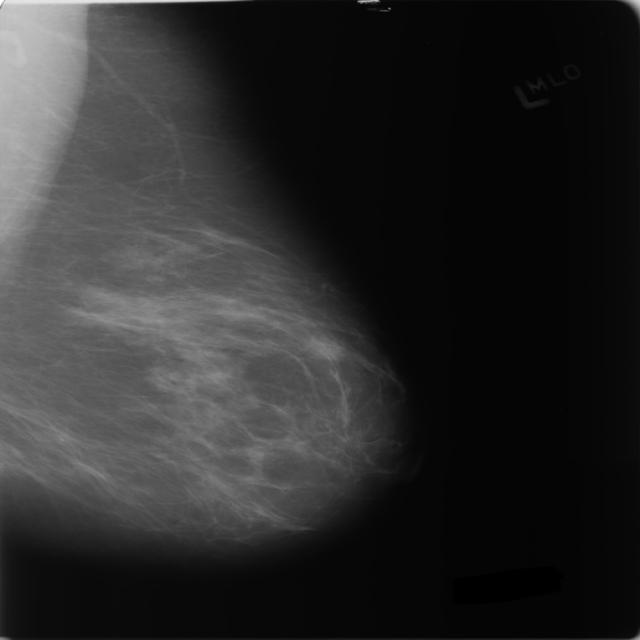tumour: (300, 333, 342, 360)
